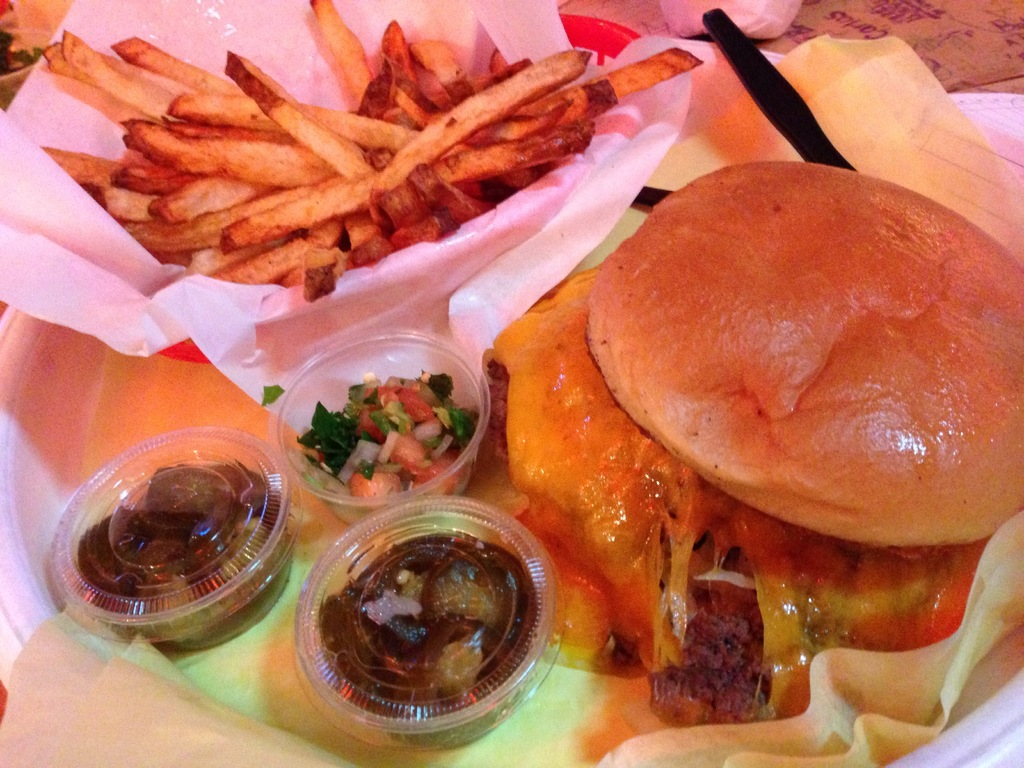French fries: (26, 28, 667, 298)
